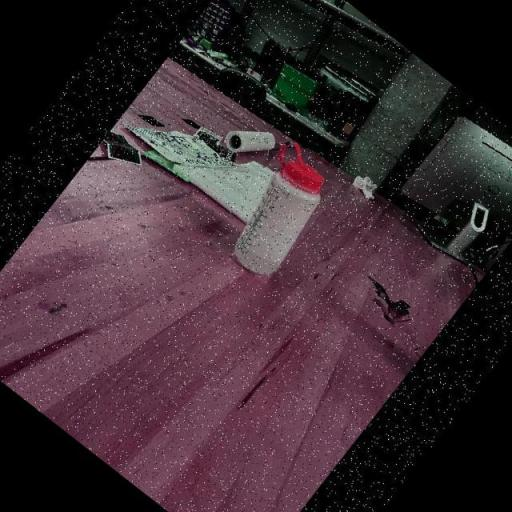bottle: (208, 138, 346, 284)
